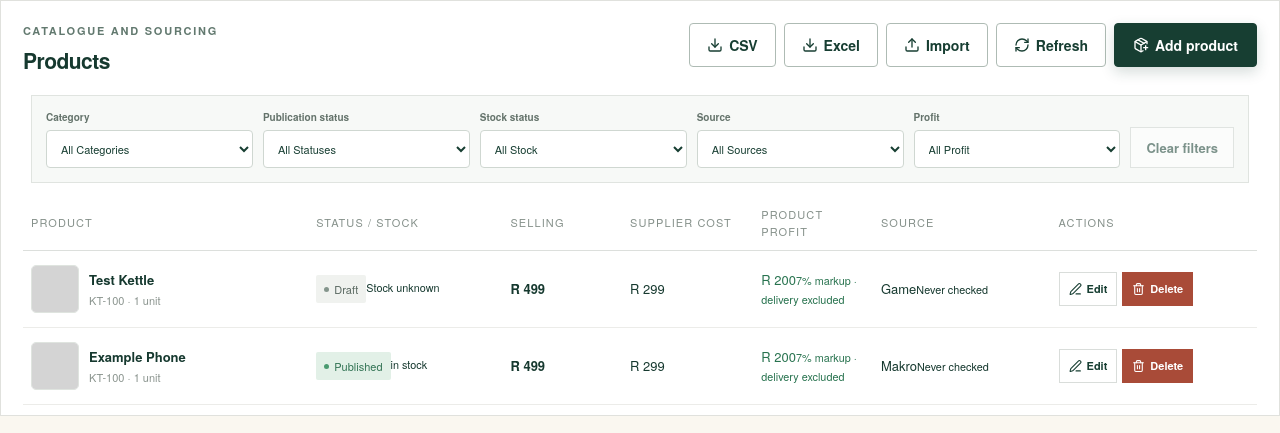
it: ProductManager actions › combines table filters and clears them immediately
Expected: the text "Test Kettle" is shown, [89,270,154,288]
Select "published" in the dropdown labelled "Publication status" at (366, 149), box [263,130,470,168]
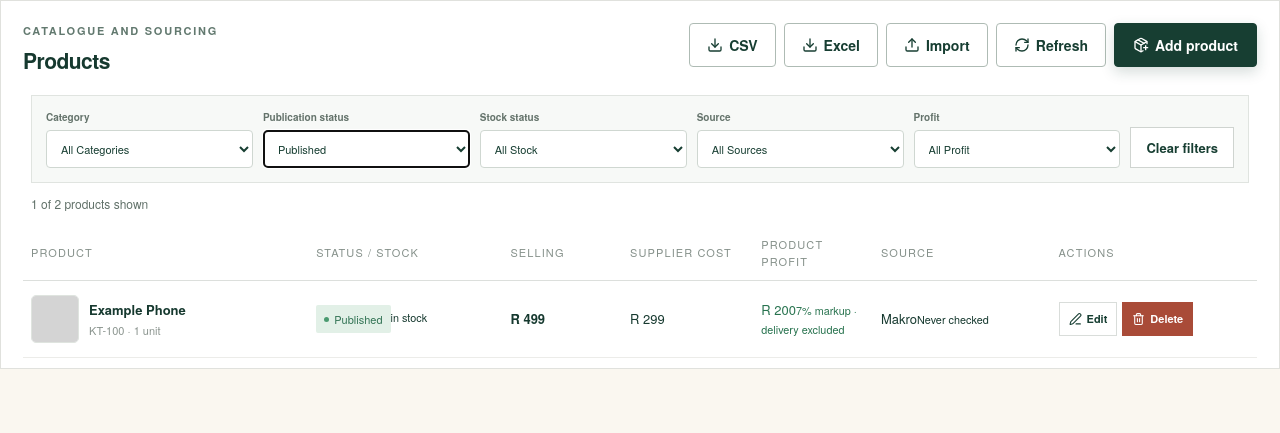
Expected: the text "Example Phone" is shown, [89,300,186,318]
Expected: the text "Test Kettle" is gone
Expected: the text "1 of 2 products shown" is shown, [31,195,148,212]
Select "Game" in the dropdown named "Product source" at (800, 149), box [697,130,904,168]
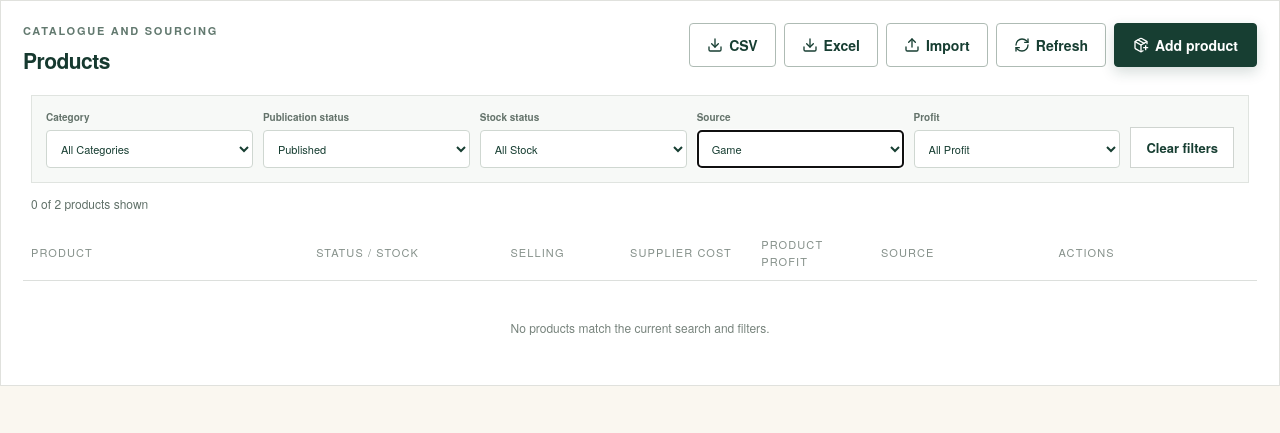
Expected: the text "No products match the current search and filters." is shown, [510,319,770,336]
Click the button "Clear filters" at (1182, 147), box [1130,126,1234,168]
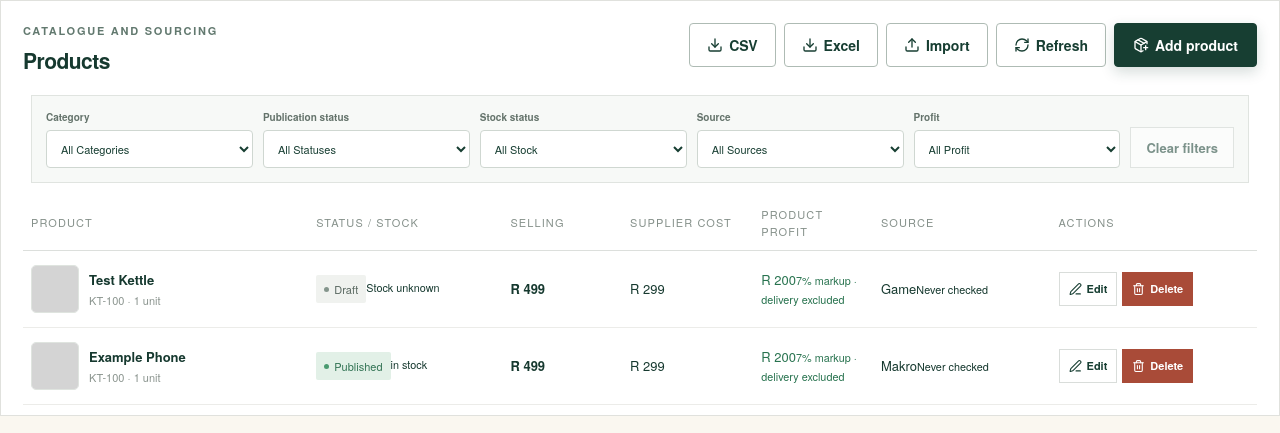
Expected: the text "Test Kettle" is shown, [89,270,154,288]
Expected: the text "Example Phone" is shown, [89,346,186,366]
